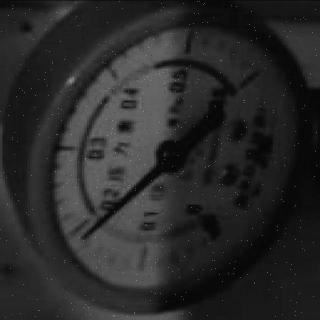gauge: (0, 0, 320, 316), (184, 203, 234, 238), (214, 65, 255, 107), (151, 137, 189, 175), (75, 230, 91, 245)
